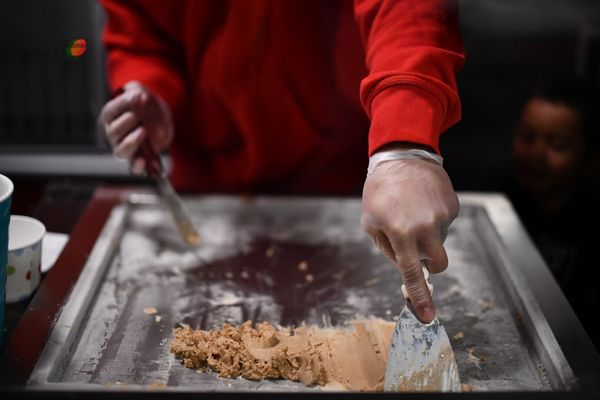pizza: (6, 214, 47, 307), (0, 172, 14, 322)
sandwich: (135, 127, 202, 247)
